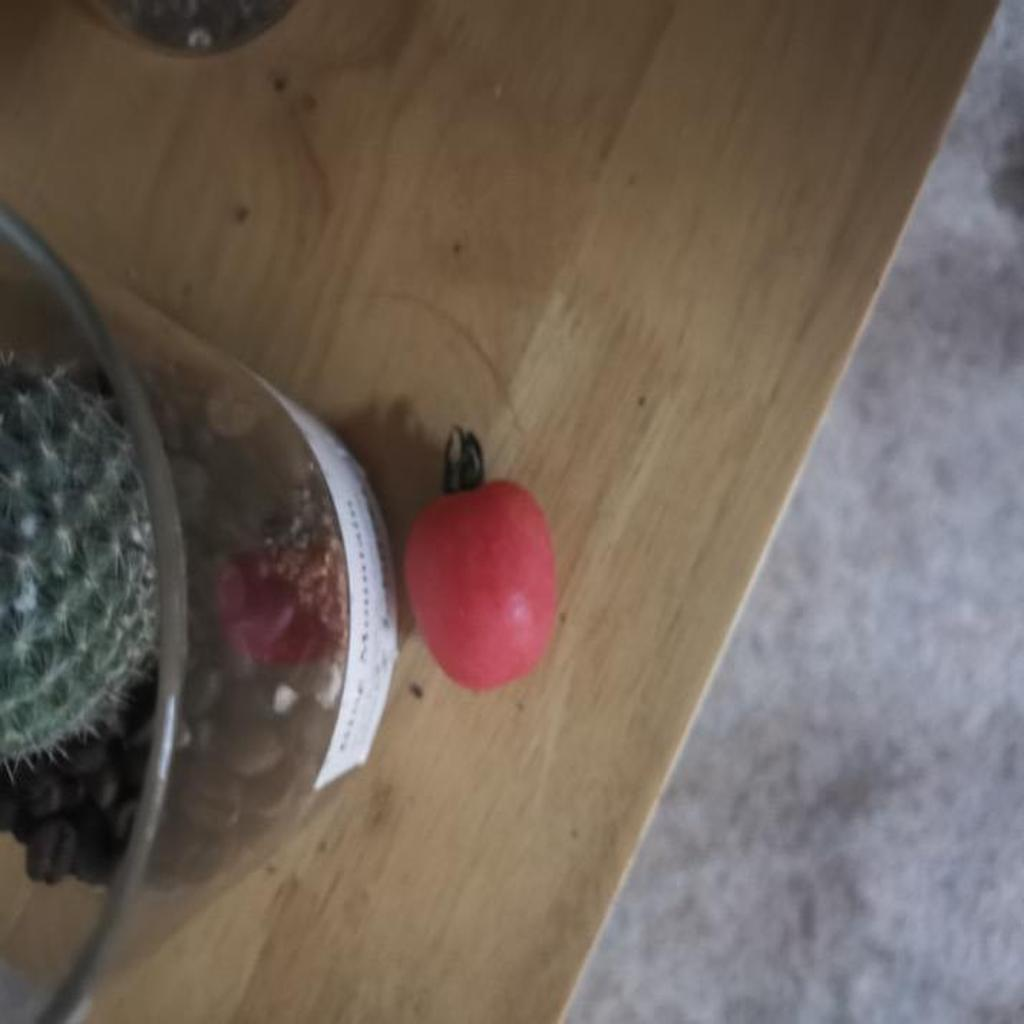tomato: (400, 443, 563, 699)
